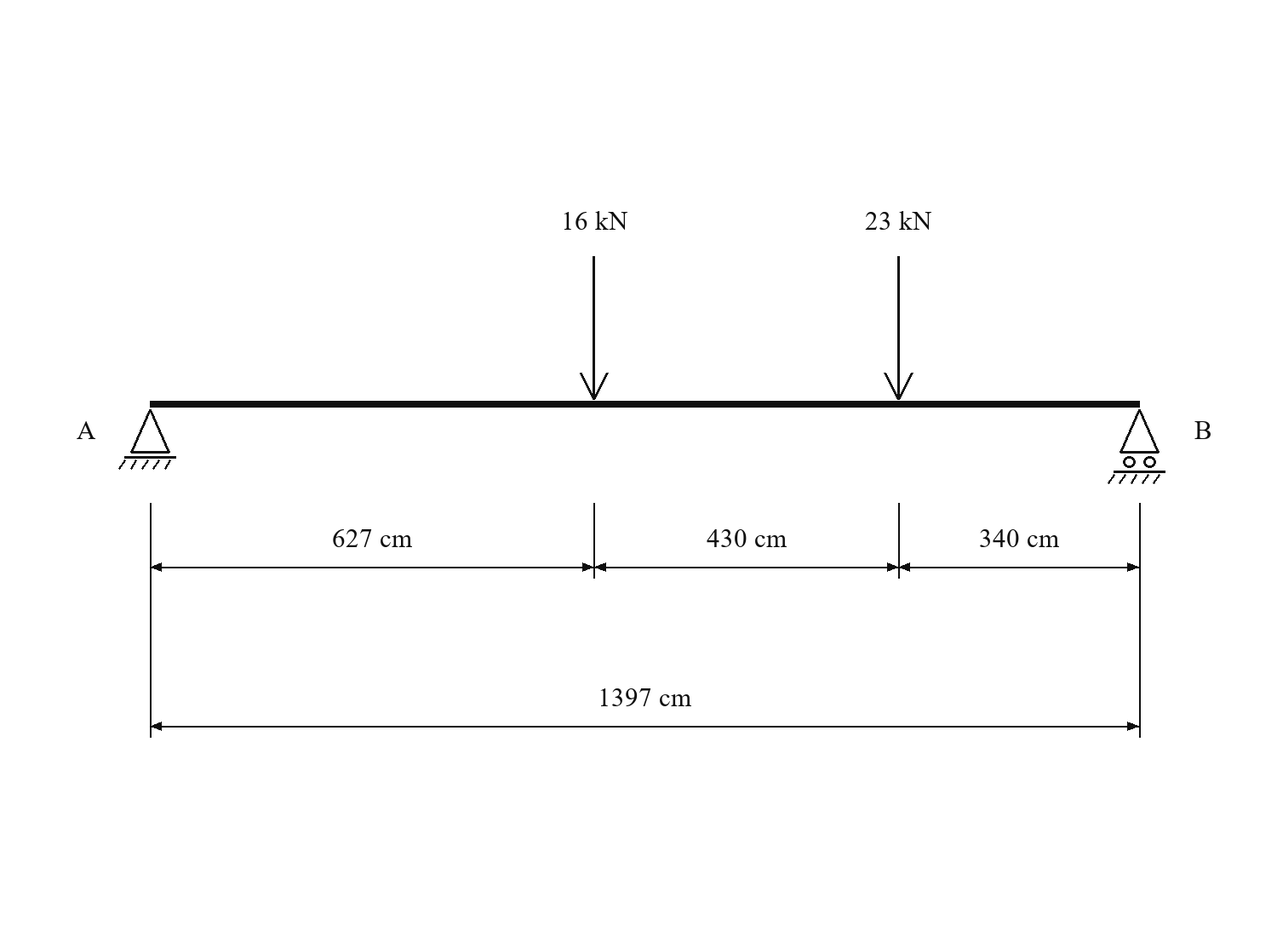pin_support: (118, 409, 176, 470)
point_load: (580, 256, 609, 400), (884, 256, 913, 400)
roller_support: (1108, 409, 1165, 484)
